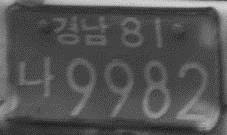1: (151, 16, 167, 48)
2: (175, 61, 210, 124)
8: (139, 59, 172, 121), (119, 14, 143, 48)
9: (64, 55, 99, 118), (101, 58, 135, 121)
경남_O: (49, 14, 110, 47)
나: (16, 53, 56, 99)
